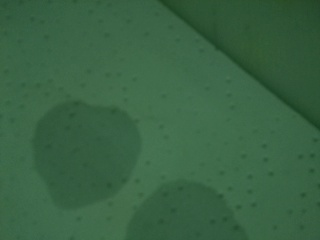Water_detected: (51, 108, 131, 189), (141, 185, 209, 240)
